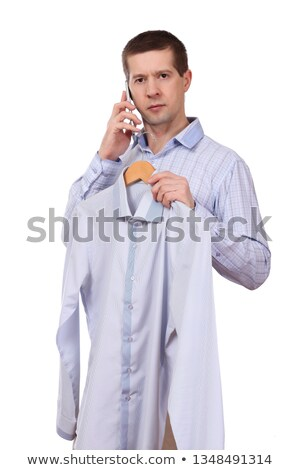phone: (117, 84, 140, 133)
talk: (110, 68, 184, 141)
